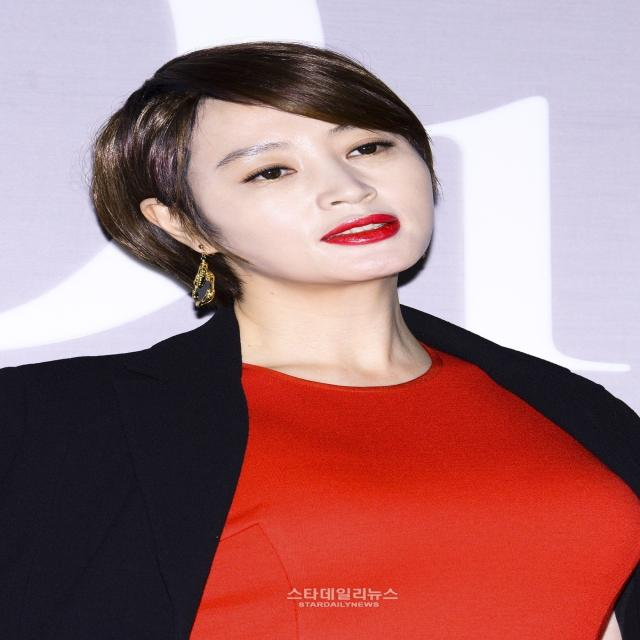face: (13, 7, 61, 35)
